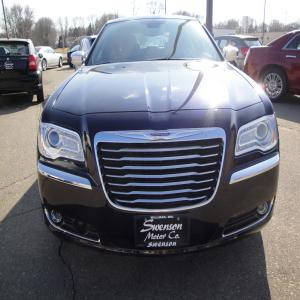Vehicle-registration-plate: (136, 215, 192, 250)
